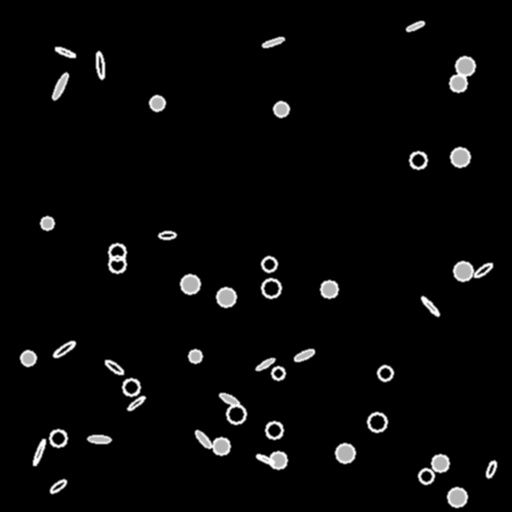pseudomonas: (51, 72, 69, 100), (52, 339, 76, 359), (420, 295, 440, 317), (103, 358, 125, 376), (32, 439, 46, 465), (194, 429, 212, 449), (126, 394, 146, 412), (48, 478, 68, 494), (473, 262, 493, 278), (219, 391, 239, 407), (293, 348, 315, 362), (261, 36, 285, 48), (255, 357, 275, 371), (95, 52, 105, 78), (255, 453, 275, 465), (405, 20, 425, 32), (55, 46, 75, 58), (485, 460, 497, 478), (87, 435, 111, 443), (158, 231, 176, 239)
synechocystis: (336, 444, 354, 462), (227, 405, 245, 423), (262, 279, 280, 297), (454, 262, 472, 280), (456, 57, 474, 75), (448, 488, 466, 506), (451, 148, 469, 166), (217, 288, 235, 306), (181, 275, 199, 293), (368, 413, 386, 431), (123, 379, 139, 395), (432, 455, 448, 471), (266, 422, 282, 438), (50, 430, 66, 446), (321, 281, 337, 297), (450, 75, 466, 91), (270, 452, 286, 468), (410, 152, 426, 168), (109, 256, 125, 272), (213, 438, 229, 454), (109, 244, 125, 260), (378, 366, 392, 380), (21, 351, 35, 365), (262, 257, 276, 271), (150, 96, 164, 110), (419, 469, 433, 483), (274, 102, 288, 116), (272, 367, 284, 379), (189, 350, 201, 362), (41, 217, 53, 229)
